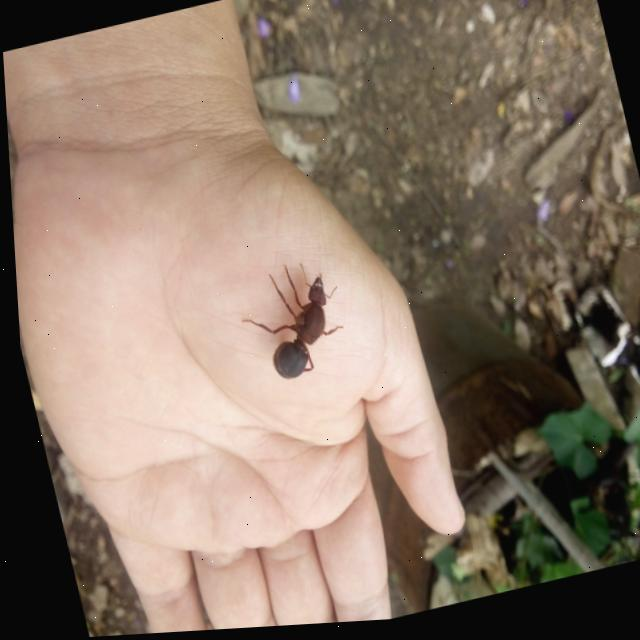Alive-Female-Dealate: (226, 257, 352, 392)
